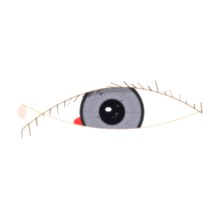hemorrhage_spot: (63, 91, 141, 153)
